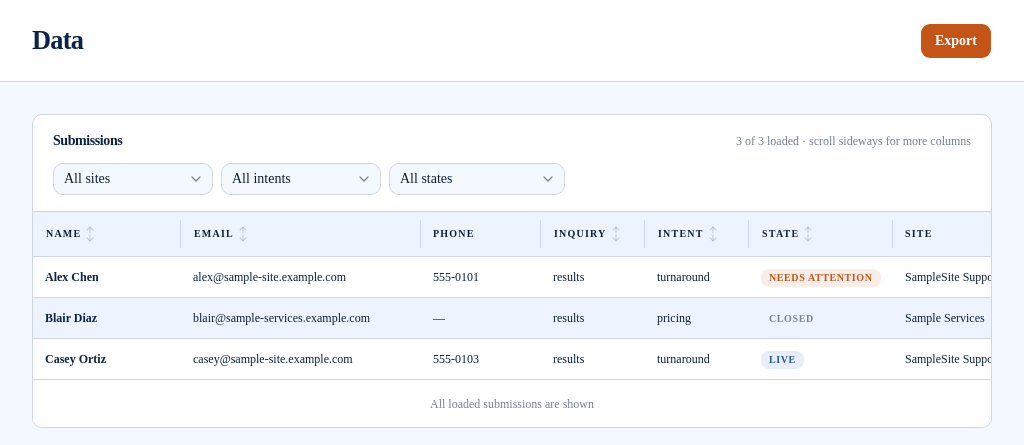
Test case: data console filters › site filter keeps only Sample Services
Click the dropdown labelled "site": [133, 179] box [53,163,213,195]
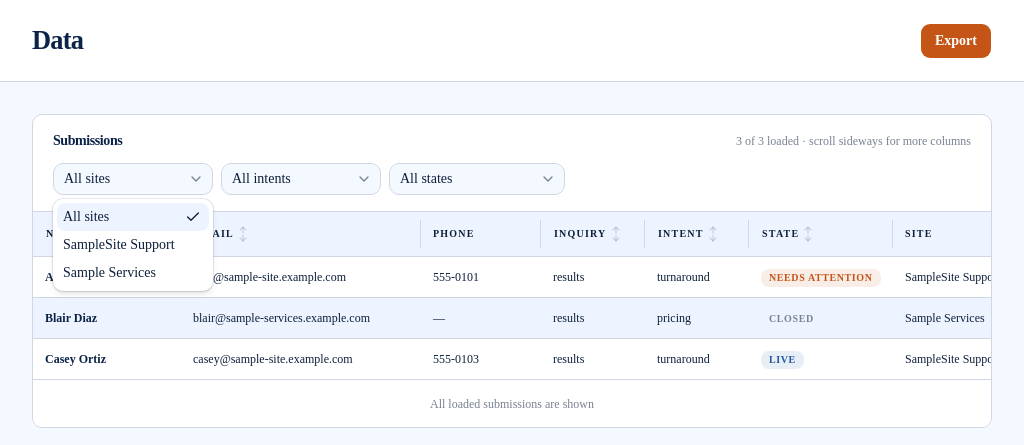
Click the option "Sample Services": [109, 272] box [63,265,156,280]
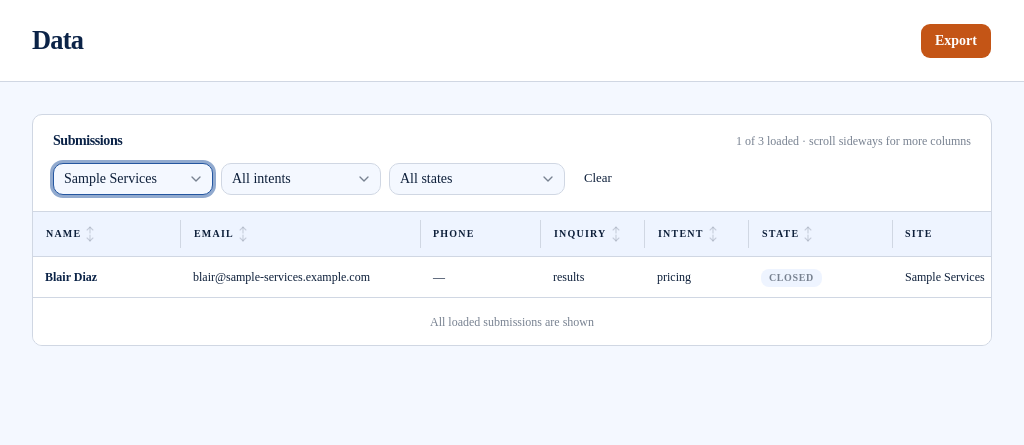
Check: the text "Blair Diaz" is shown, box [33,256,181,297]
Check: the text "Alex Chen" is gone
Check: the text "Casey Ortiz" is gone
